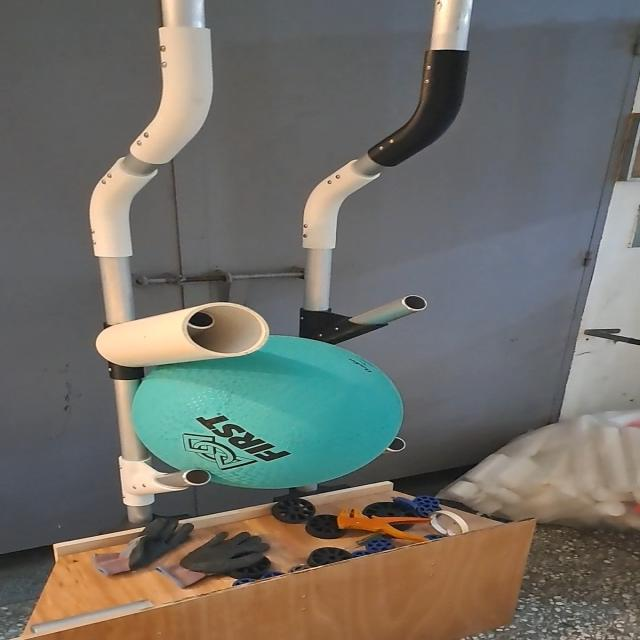ALGAE: (137, 331, 409, 489)
CORAL: (92, 300, 274, 367)
